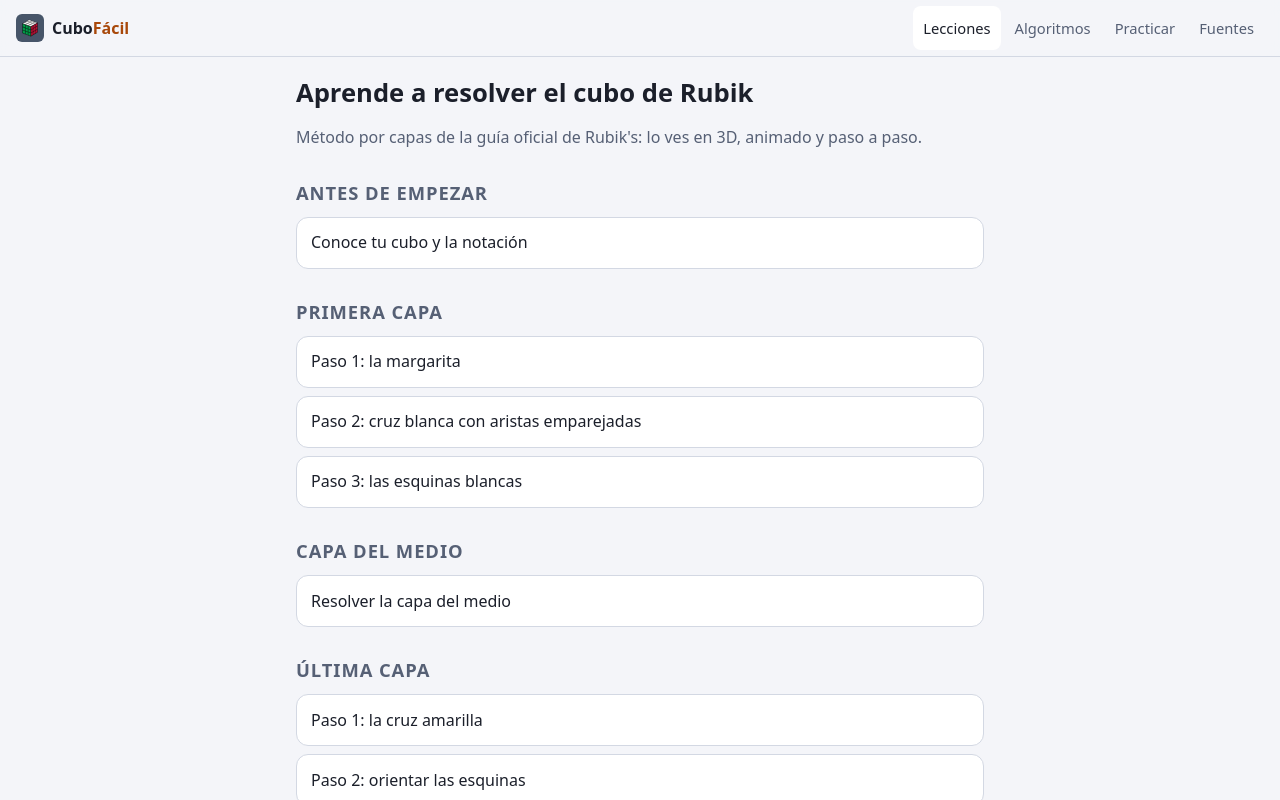
Test: App › la sección de algoritmos tiene su pestaña y muestra todos con su reproductor
Click the link "Algoritmos". click: [1053, 28]
box: [1015,18,1091,38]
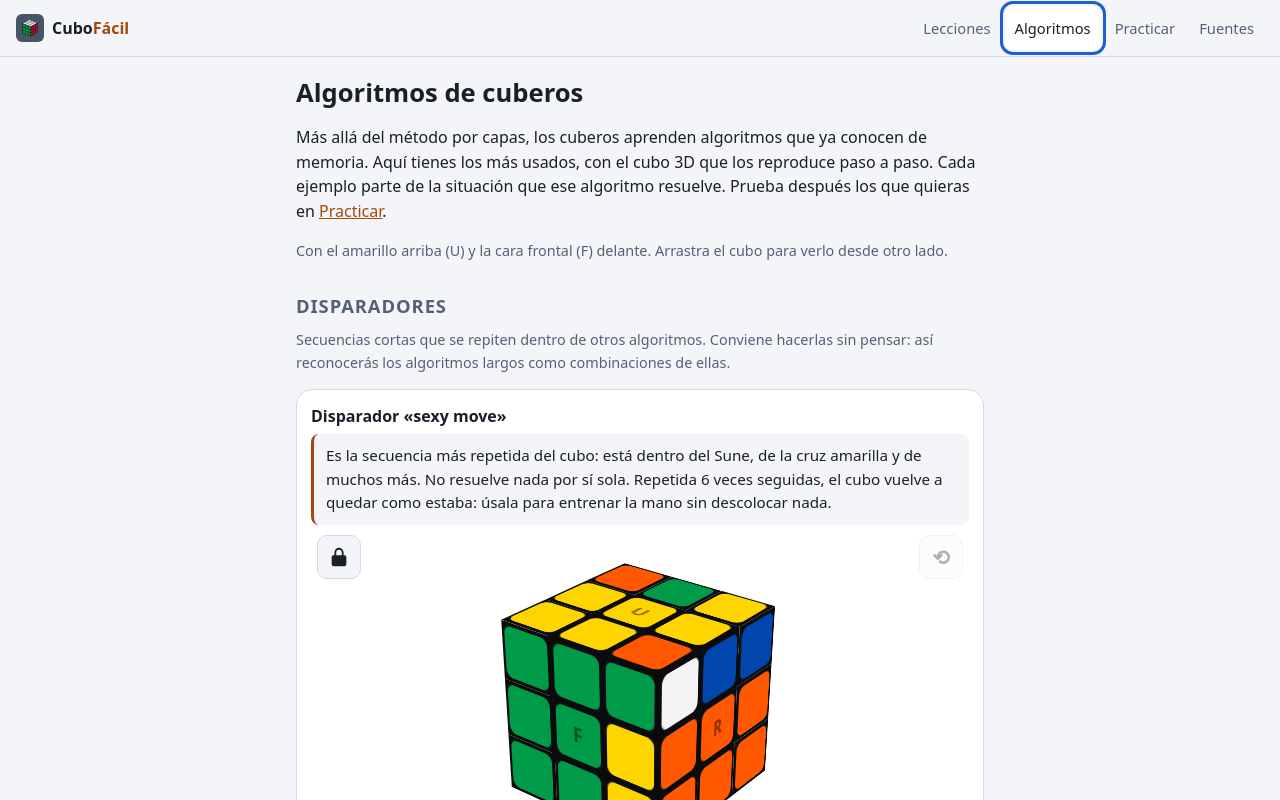
Expected: the heading "Algoritmos de cuberos" is shown, [296,75,583,110]
Expected: the heading "Disparadores" is shown, [296,293,447,318]
Expected: the text "Disparador «sexy move»" is shown, [311,404,507,426]
